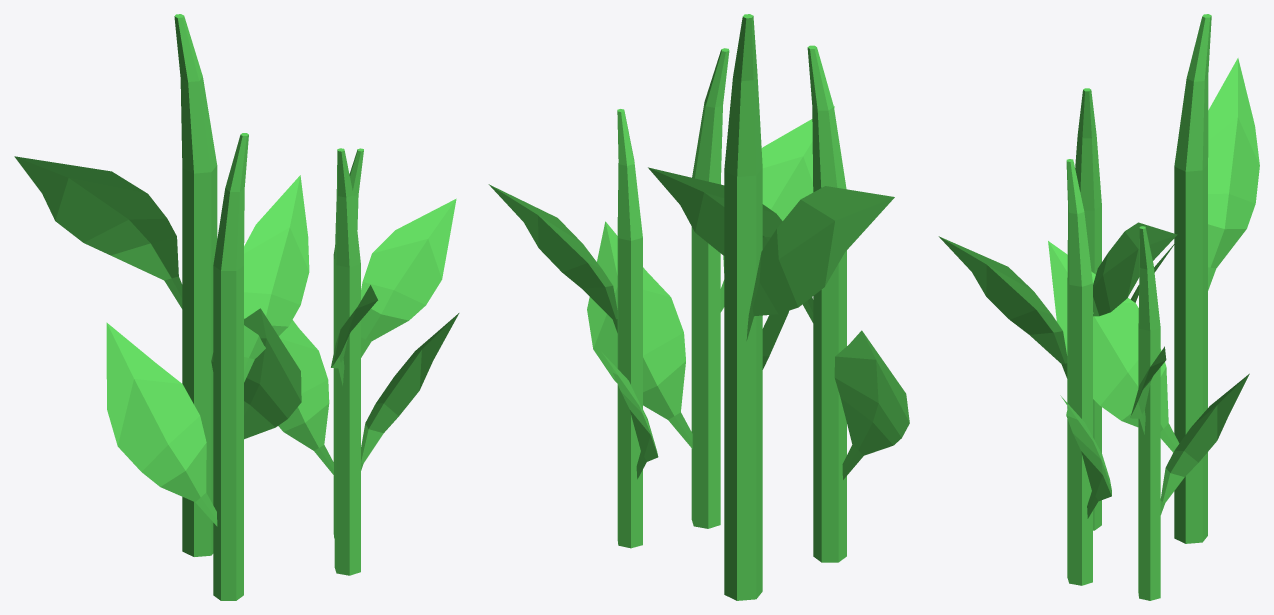
Rendered from wheat_seed_mid.glb.
3 views of the same model, side by side, from view 1: azimuth 30°, elevation 25°; view 2: azimuth 150°, elevation 25°; view 3: azimuth 270°, elevation 25° (orthographic). The views are drawn at different scales.
Parts seen in each view (by area): view 1: mid; view 2: mid; view 3: mid.
Boxes of the visible parts, left/top/right/bottom form: mid: left=14, top=14, right=459, bottom=600; mid: left=488, top=14, right=909, bottom=600; mid: left=938, top=14, right=1259, bottom=600.
Bounding box in the file's own units: 1.59 × 1.99 × 1.13.
